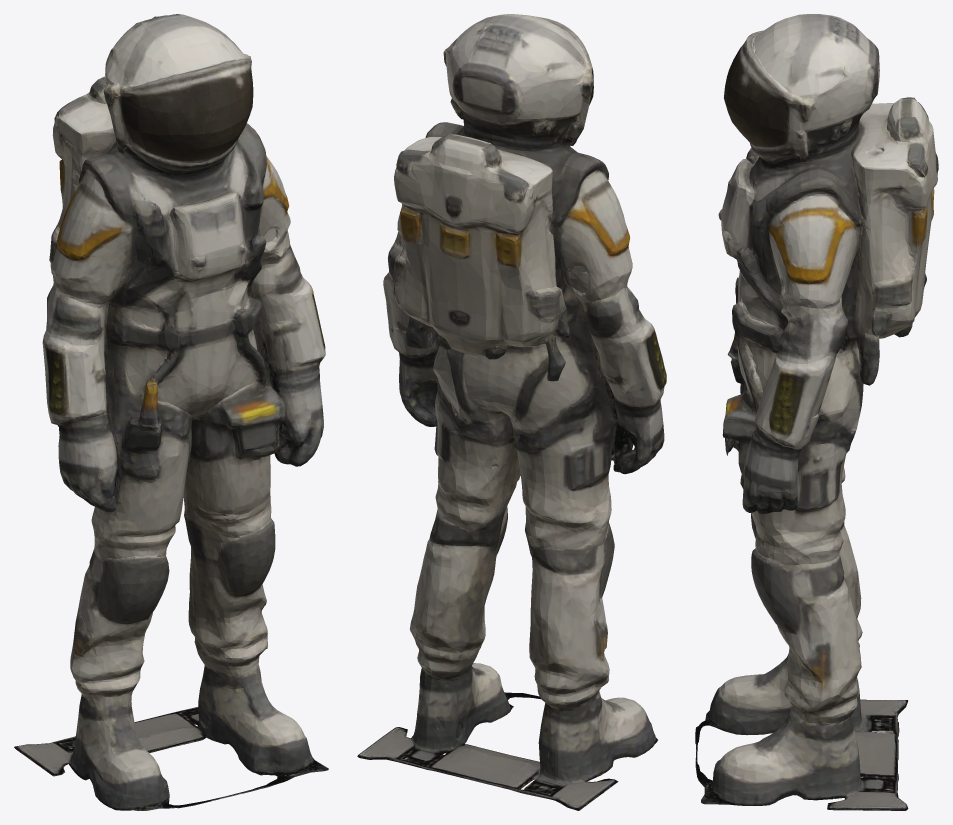
Rendered from astronaut_tomas.glb.
3 views of the same model, side by side, from view 1: azimuth 30°, elevation 25°; view 2: azimuth 150°, elevation 25°; view 3: azimuth 270°, elevation 25° (orthographic).
Parts seen in each view (by area): view 1: geometry_0; view 2: geometry_0; view 3: geometry_0.
Boxes of the visible parts, x1,y1,x2,y2 form: geometry_0: [14, 14, 328, 810]; geometry_0: [357, 14, 666, 810]; geometry_0: [695, 14, 938, 810].
Size of the model in its own units: 0.3877 by 0.9992 by 0.3.
1 material, 1 textured.
